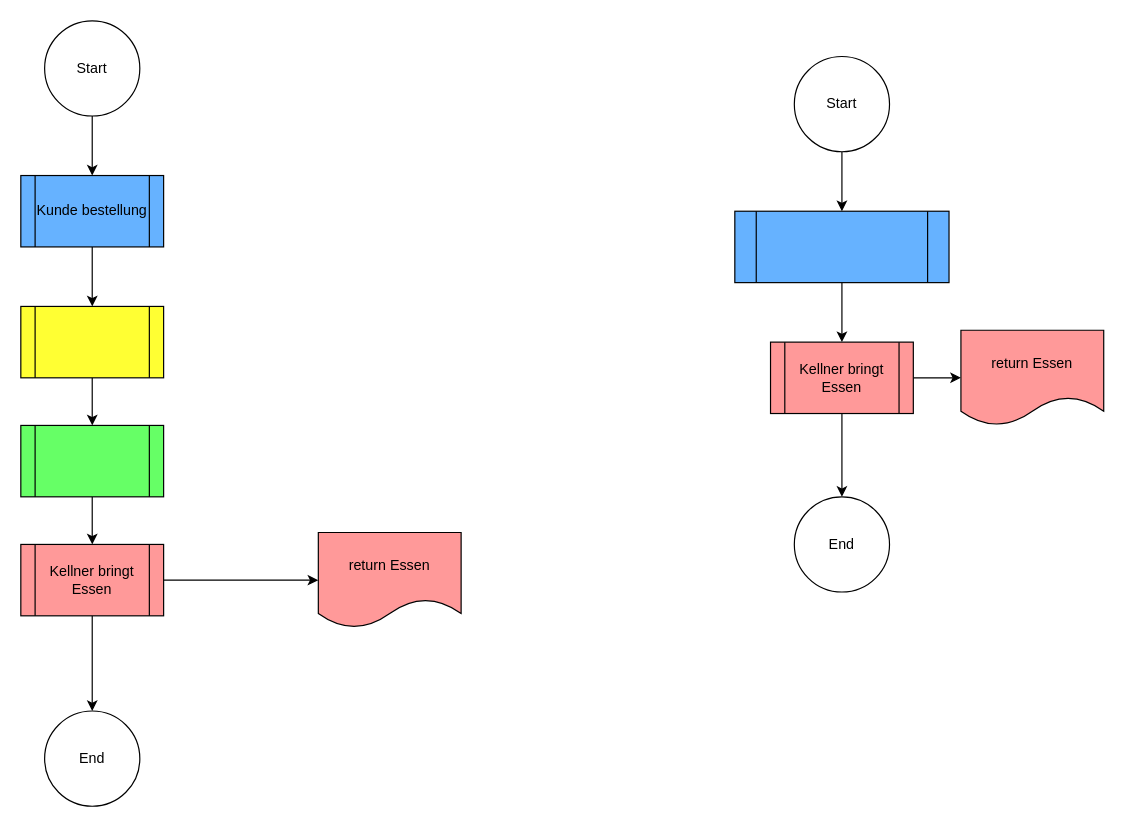
This 1125x827 diagram has some shape labels left out. The shapes that lost their labels are listed below. From the top down, each one's centre as x and y in pixels, then its label:
[841,246]: Kunde bestellung (ruf Kellner)
[92,341]: kellner Nimmt bestellung
[92,460]: kellner zur Küche
